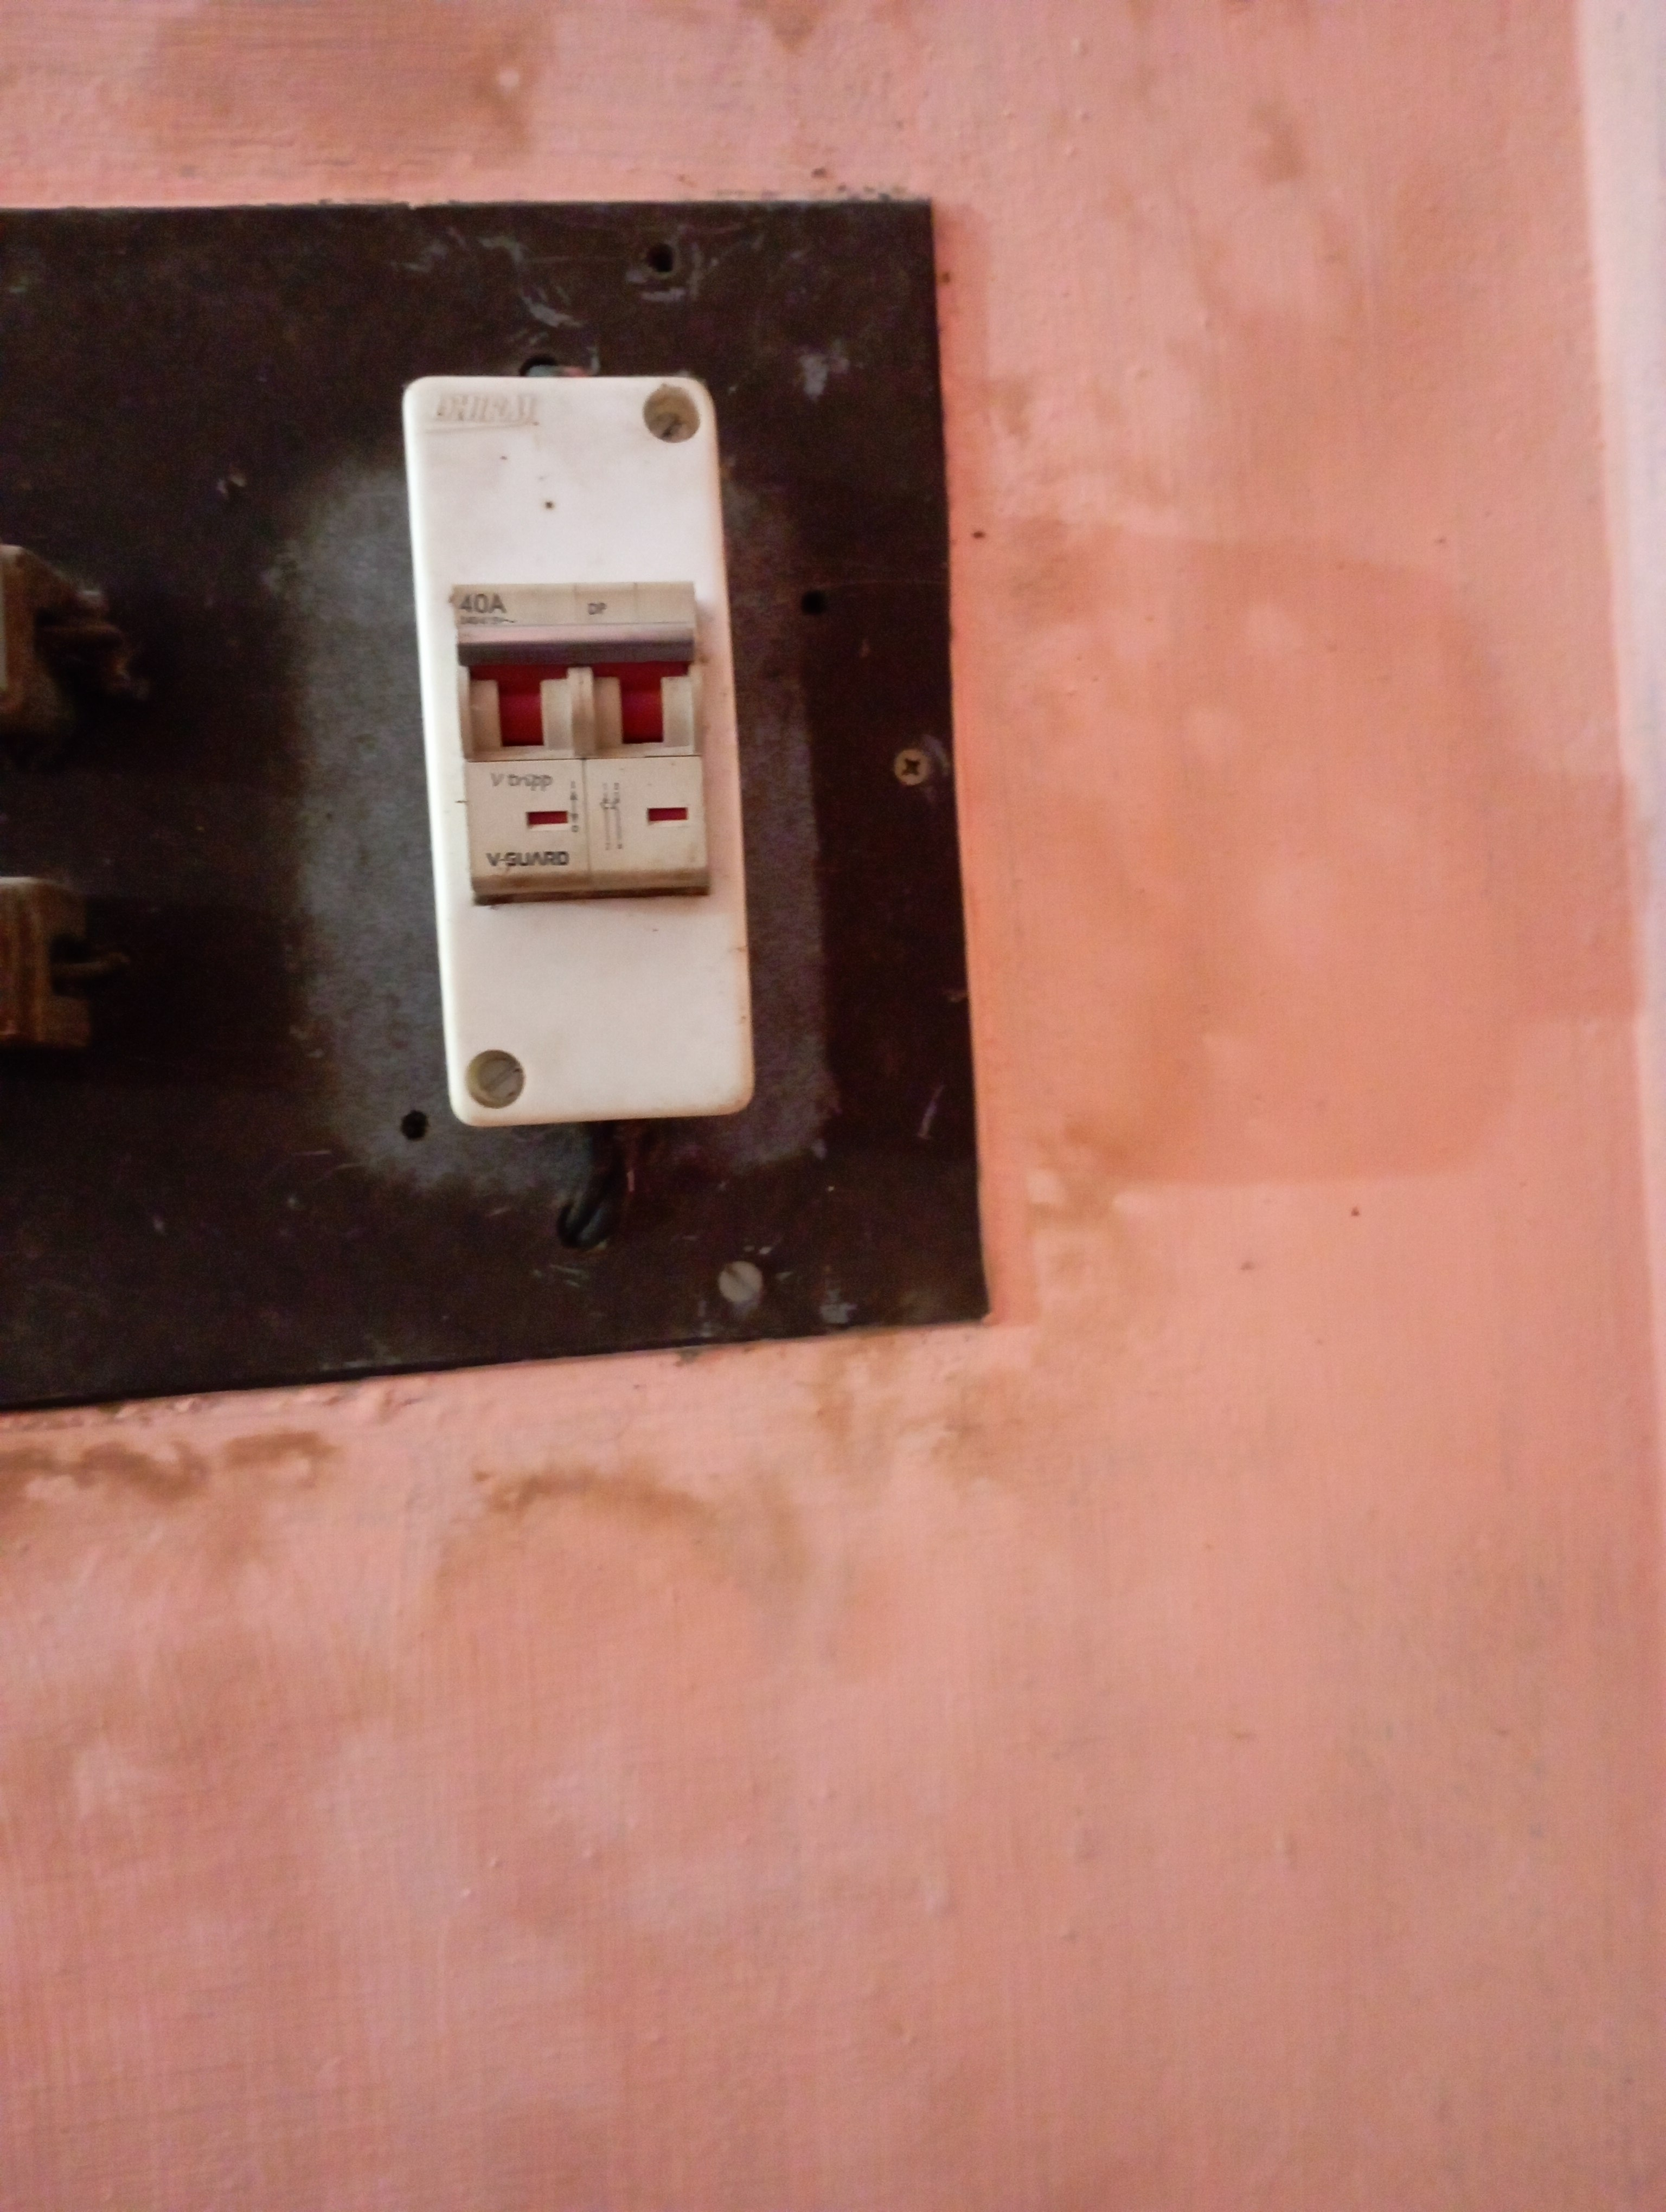ciruit_breaker: (371, 353, 793, 1163)
fuse: (0, 539, 142, 794), (0, 859, 154, 1088)
